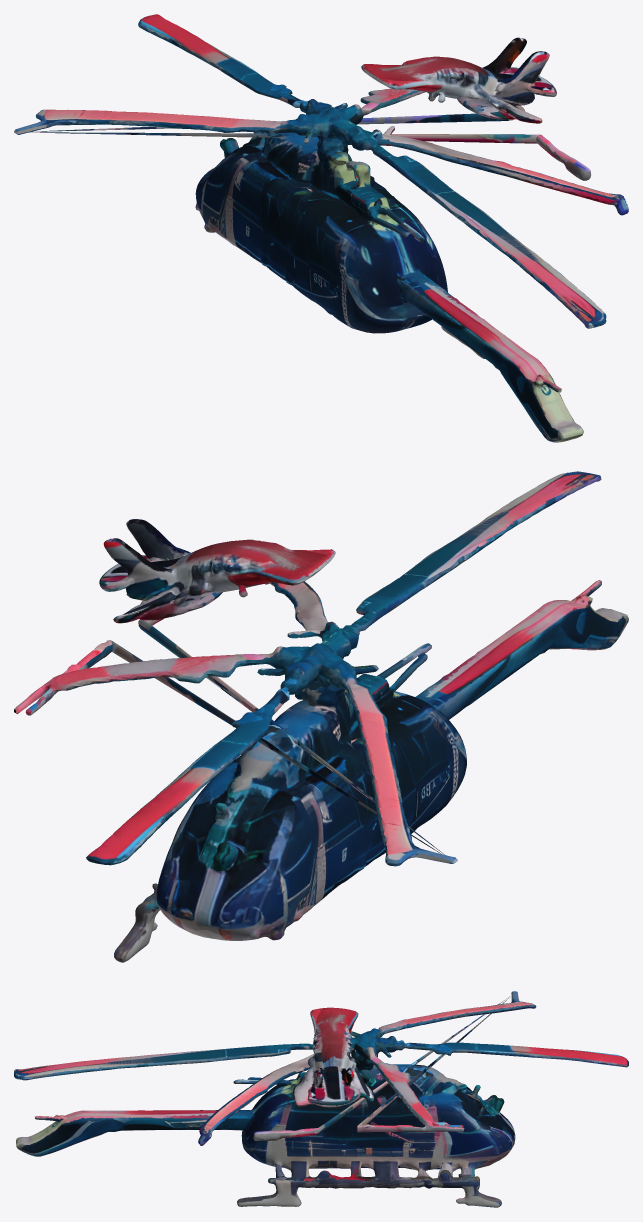
3 renders of one model, top to bottom at view 1: azimuth 30°, elevation 25°; view 2: azimuth 150°, elevation 25°; view 3: azimuth 270°, elevation 25°, orthographic. The views are drawn at different scales.
Visible parts, largest first — view 1: textured_mesh; view 2: textured_mesh; view 3: textured_mesh.
Boxes of the visible parts, <box> form: textured_mesh: <box>14,14,628,442</box>; textured_mesh: <box>14,471,628,962</box>; textured_mesh: <box>14,991,628,1207</box>.
Size of the model in its own units: 1.11 by 0.6513 by 2.
1 material, 1 textured.
